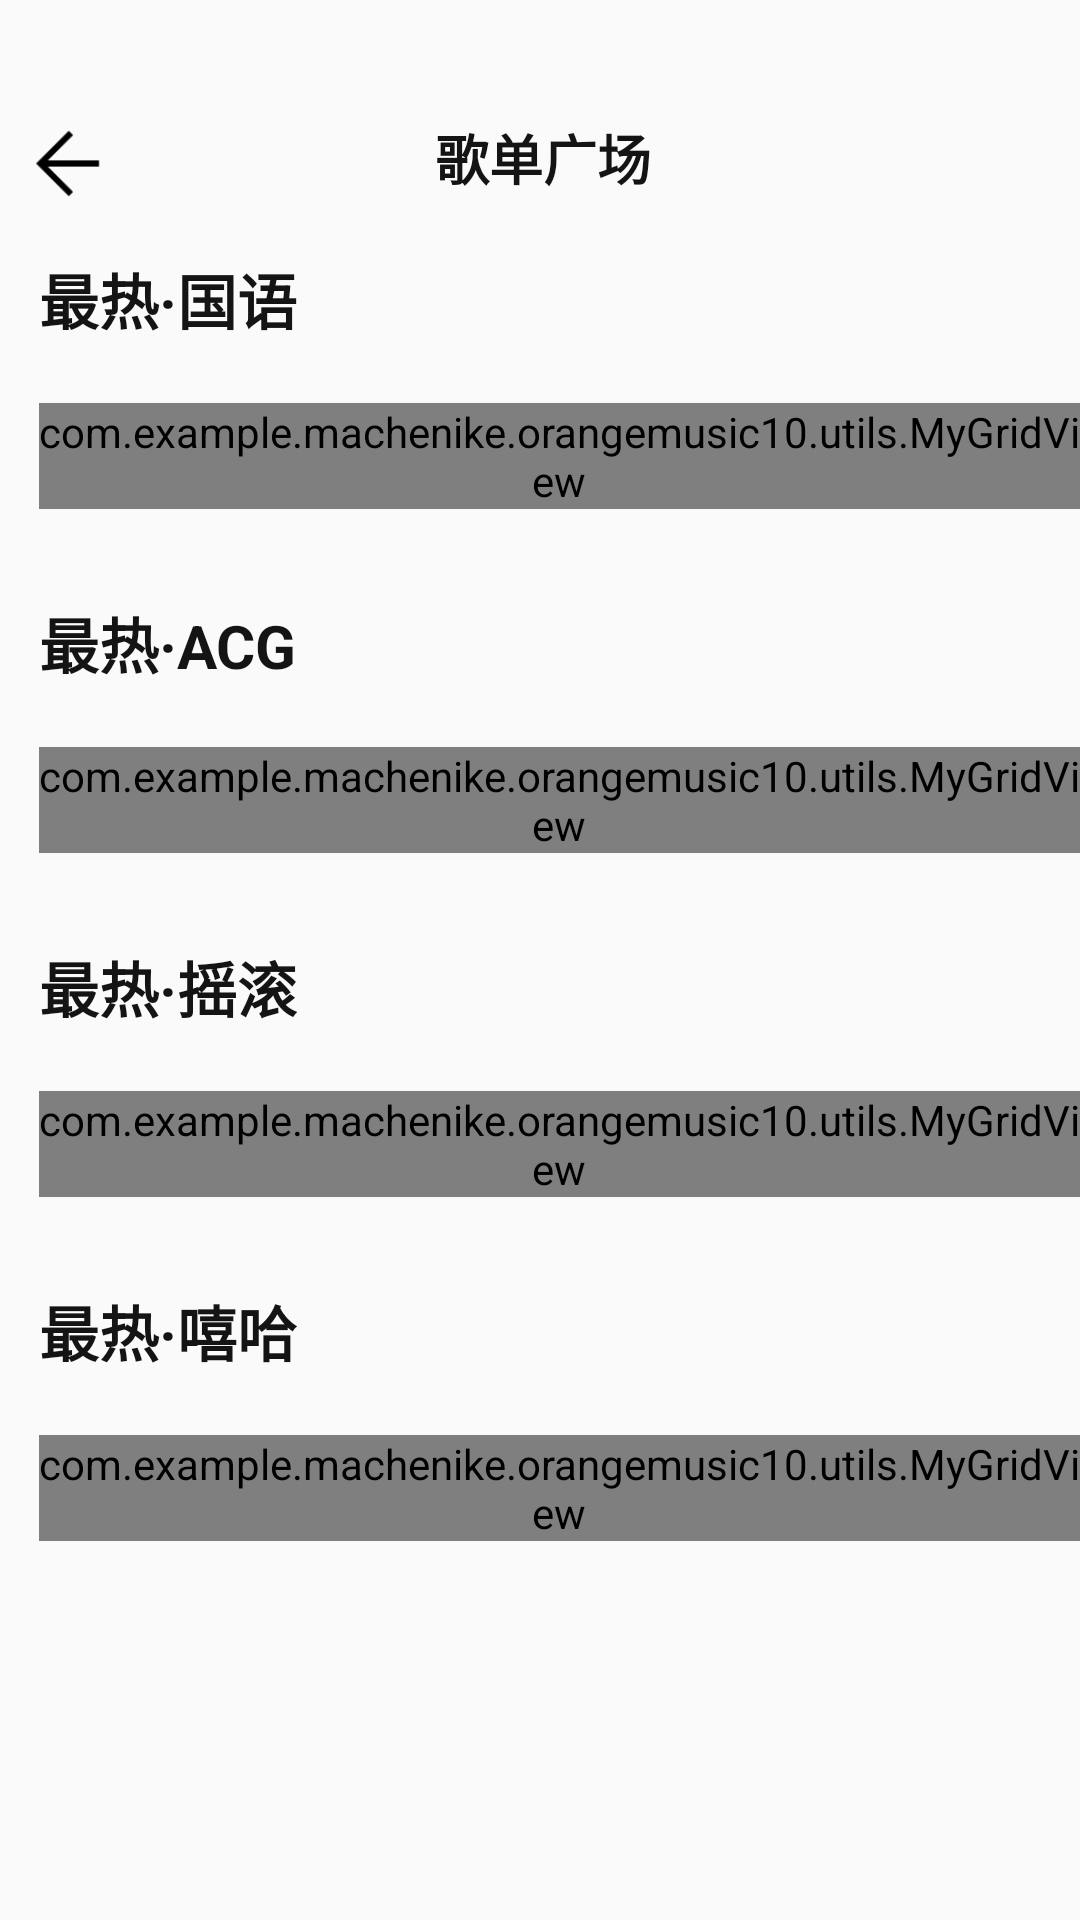

Icon click points for this 1080×1920 phone screenshot, format (x,y):
back: (68,163)
